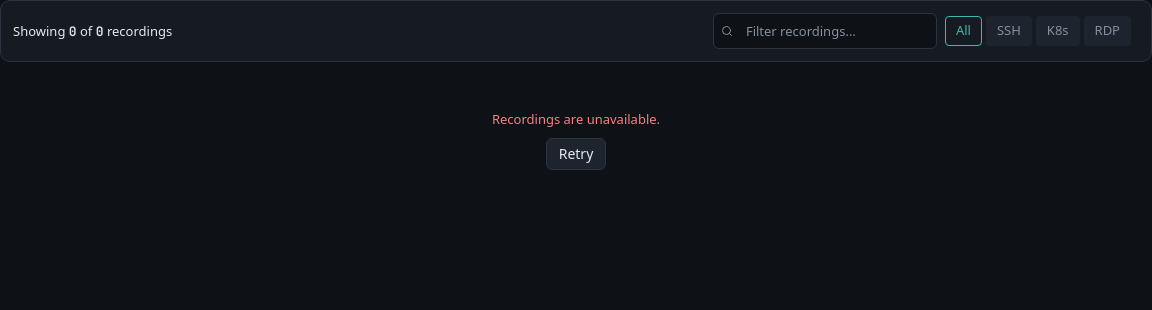
Scenario: reports unavailable storage and retries instead of showing an empty list
Expected: the message shows "Recordings are unavailable", [492,110,660,128]
Expected: the text "No recordings yet" is not shown
Click the button "Retry" at (576,154), box [546,138,606,170]
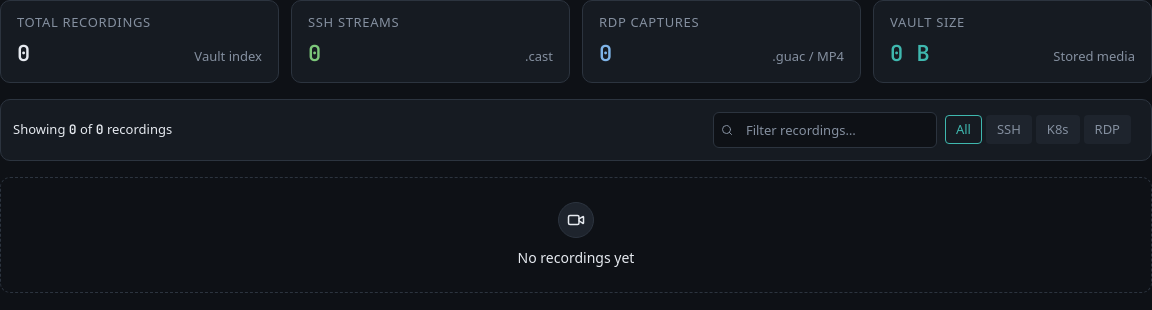
Expected: the text "No recordings yet" is shown, [518,248,634,268]
